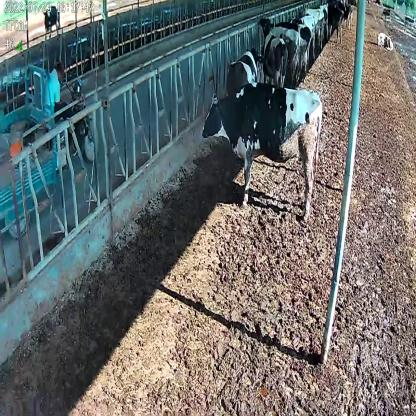cow: (204, 81, 323, 221), (257, 16, 288, 89), (225, 44, 264, 90), (376, 31, 394, 51)
